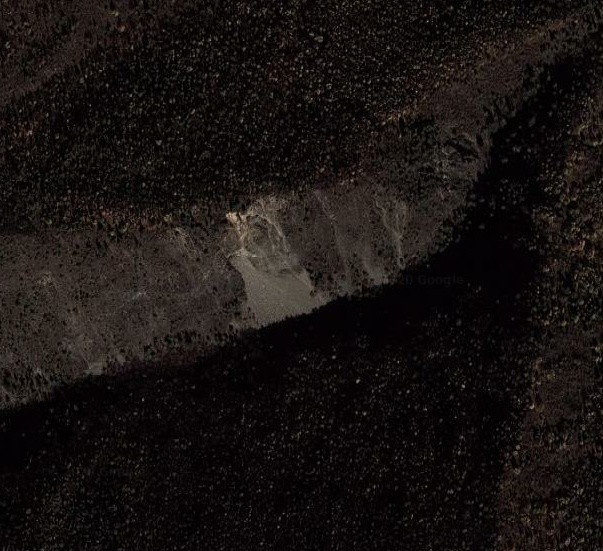slope: (225, 194, 309, 322)
